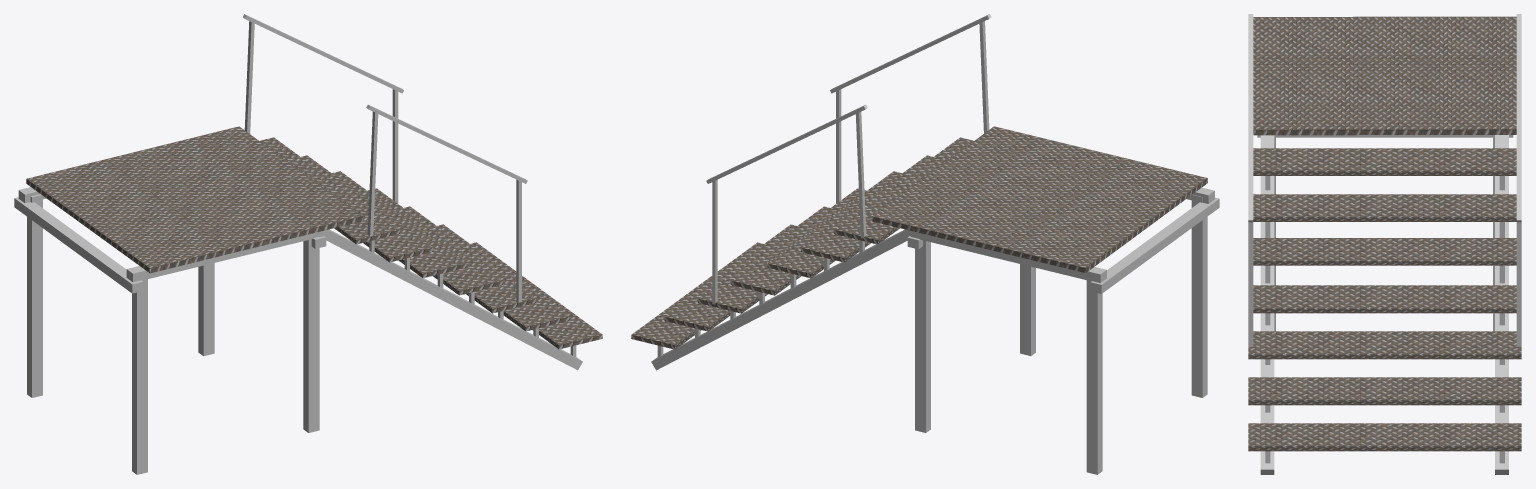
The model's file is stairs03.fbx.
3 views of the same model, side by side, from view 1: azimuth 30°, elevation 25°; view 2: azimuth 150°, elevation 25°; view 3: azimuth 270°, elevation 25° (orthographic). The views are drawn at different scales.
Parts seen in each view (by area): view 1: Mesh Object; view 2: Mesh Object; view 3: Mesh Object.
Part boxes in pixels (x1,y1,x2,y2): Mesh Object: [14, 14, 602, 474]; Mesh Object: [631, 14, 1219, 474]; Mesh Object: [1248, 14, 1521, 474].
Size of the model in its own units: 2.92 by 1.92 by 1.37.
